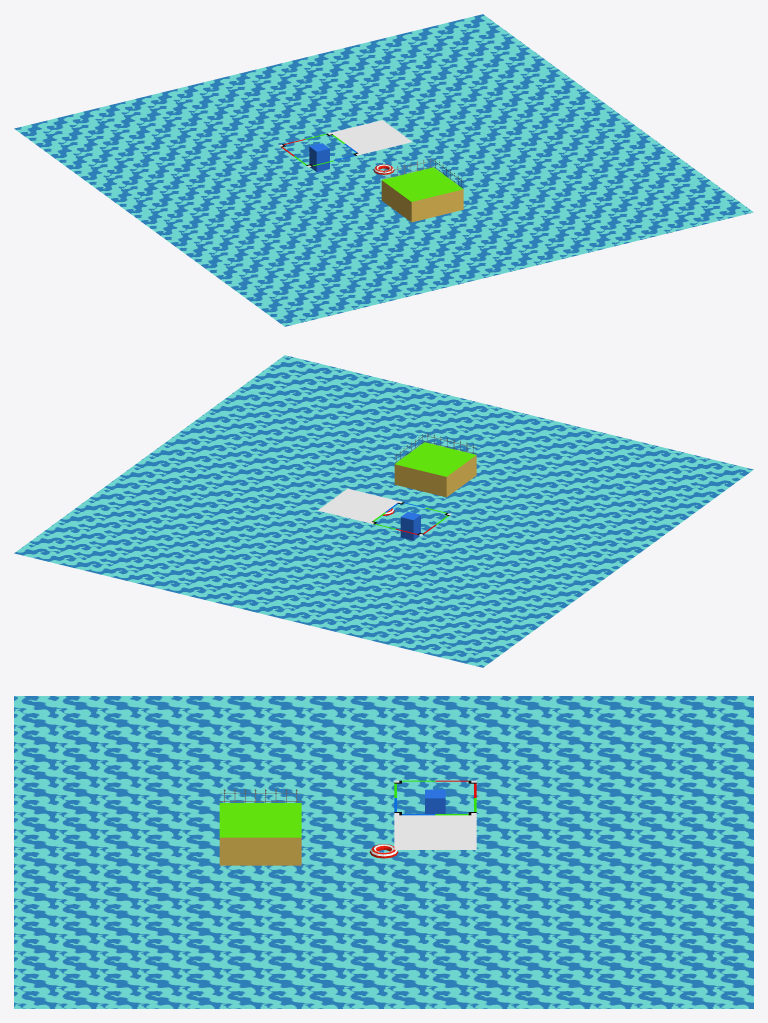
File: transparency.gltf
3 renders of one model, top to bottom at view 1: azimuth 30°, elevation 25°; view 2: azimuth 150°, elevation 25°; view 3: azimuth 270°, elevation 25°, orthographic. The views are drawn at different scales.
Parts seen in each view (by area): view 1: Water, Cube, Plane.001, Cube.001; view 2: Water, Cube, Plane.001, Cube.001; view 3: Water, Cube, Plane.001, Cube.001.
Boxes of the visible parts, x1=… form: Water: x1=14, y1=14, x2=753, y2=326; Cube: x1=381, y1=167, x2=463, y2=222; Plane.001: x1=279, y1=120, x2=411, y2=167; Cube.001: x1=309, y1=143, x2=329, y2=171; Water: x1=14, y1=355, x2=753, y2=667; Cube: x1=394, y1=442, x2=476, y2=497; Plane.001: x1=318, y1=488, x2=451, y2=535; Cube.001: x1=400, y1=511, x2=420, y2=540; Water: x1=14, y1=696, x2=753, y2=1008; Cube: x1=219, y1=803, x2=301, y2=865; Plane.001: x1=394, y1=780, x2=476, y2=849; Cube.001: x1=425, y1=789, x2=445, y2=813.
Bounding box in the file's own units: 72 × 10 × 72.
4 materials, 3 textured.
